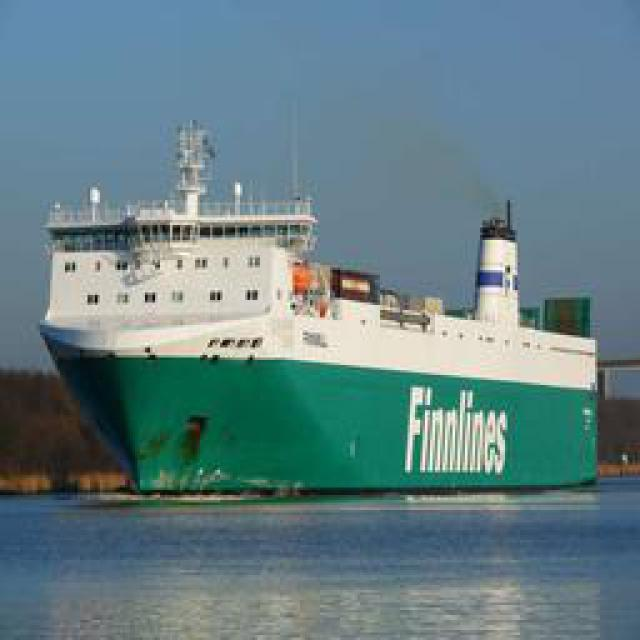Ship: (62, 115, 592, 488)
